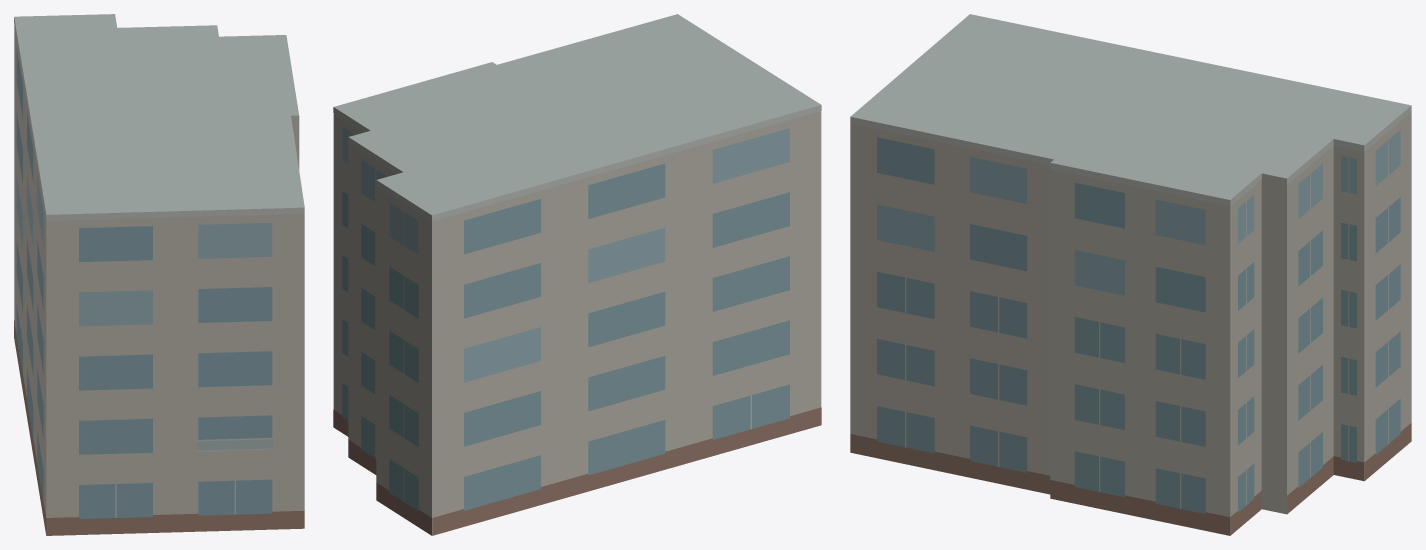
Rendered from survey-upis-32999386.glb.
3 renders of one model, left to right at view 1: azimuth 30°, elevation 25°; view 2: azimuth 150°, elevation 25°; view 3: azimuth 270°, elevation 25°, orthographic. The views are drawn at different scales.
Parts seen in each view (by area): view 1: survey-upis-32999386.tmp; view 2: survey-upis-32999386.tmp; view 3: survey-upis-32999386.tmp.
Boxes of the visible parts, <box> form: survey-upis-32999386.tmp: <box>14,14,304,535</box>; survey-upis-32999386.tmp: <box>333,14,821,535</box>; survey-upis-32999386.tmp: <box>850,14,1411,535</box>.
Bounding box in the file's own units: 15.1 × 12.7 × 19.25.
